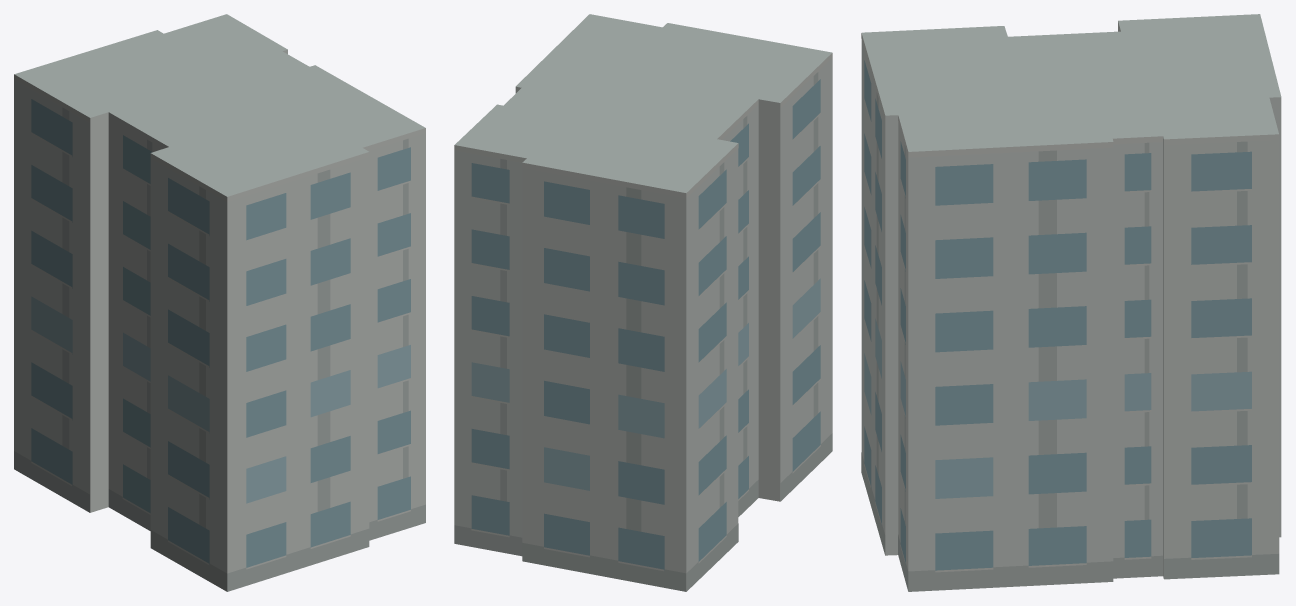
File: survey-upis-32846131.glb
3 renders of one model, left to right at view 1: azimuth 30°, elevation 25°; view 2: azimuth 150°, elevation 25°; view 3: azimuth 270°, elevation 25°, orthographic. The views are drawn at different scales.
Parts seen in each view (by area): view 1: survey-upis-32846131.tmp; view 2: survey-upis-32846131.tmp; view 3: survey-upis-32846131.tmp.
Part boxes in pixels (x1,y1,x2,y2): survey-upis-32846131.tmp: (14, 14, 425, 591); survey-upis-32846131.tmp: (454, 14, 832, 591); survey-upis-32846131.tmp: (861, 14, 1281, 591).
Size of the model in its own units: 12.38 by 18.4 by 15.93.
